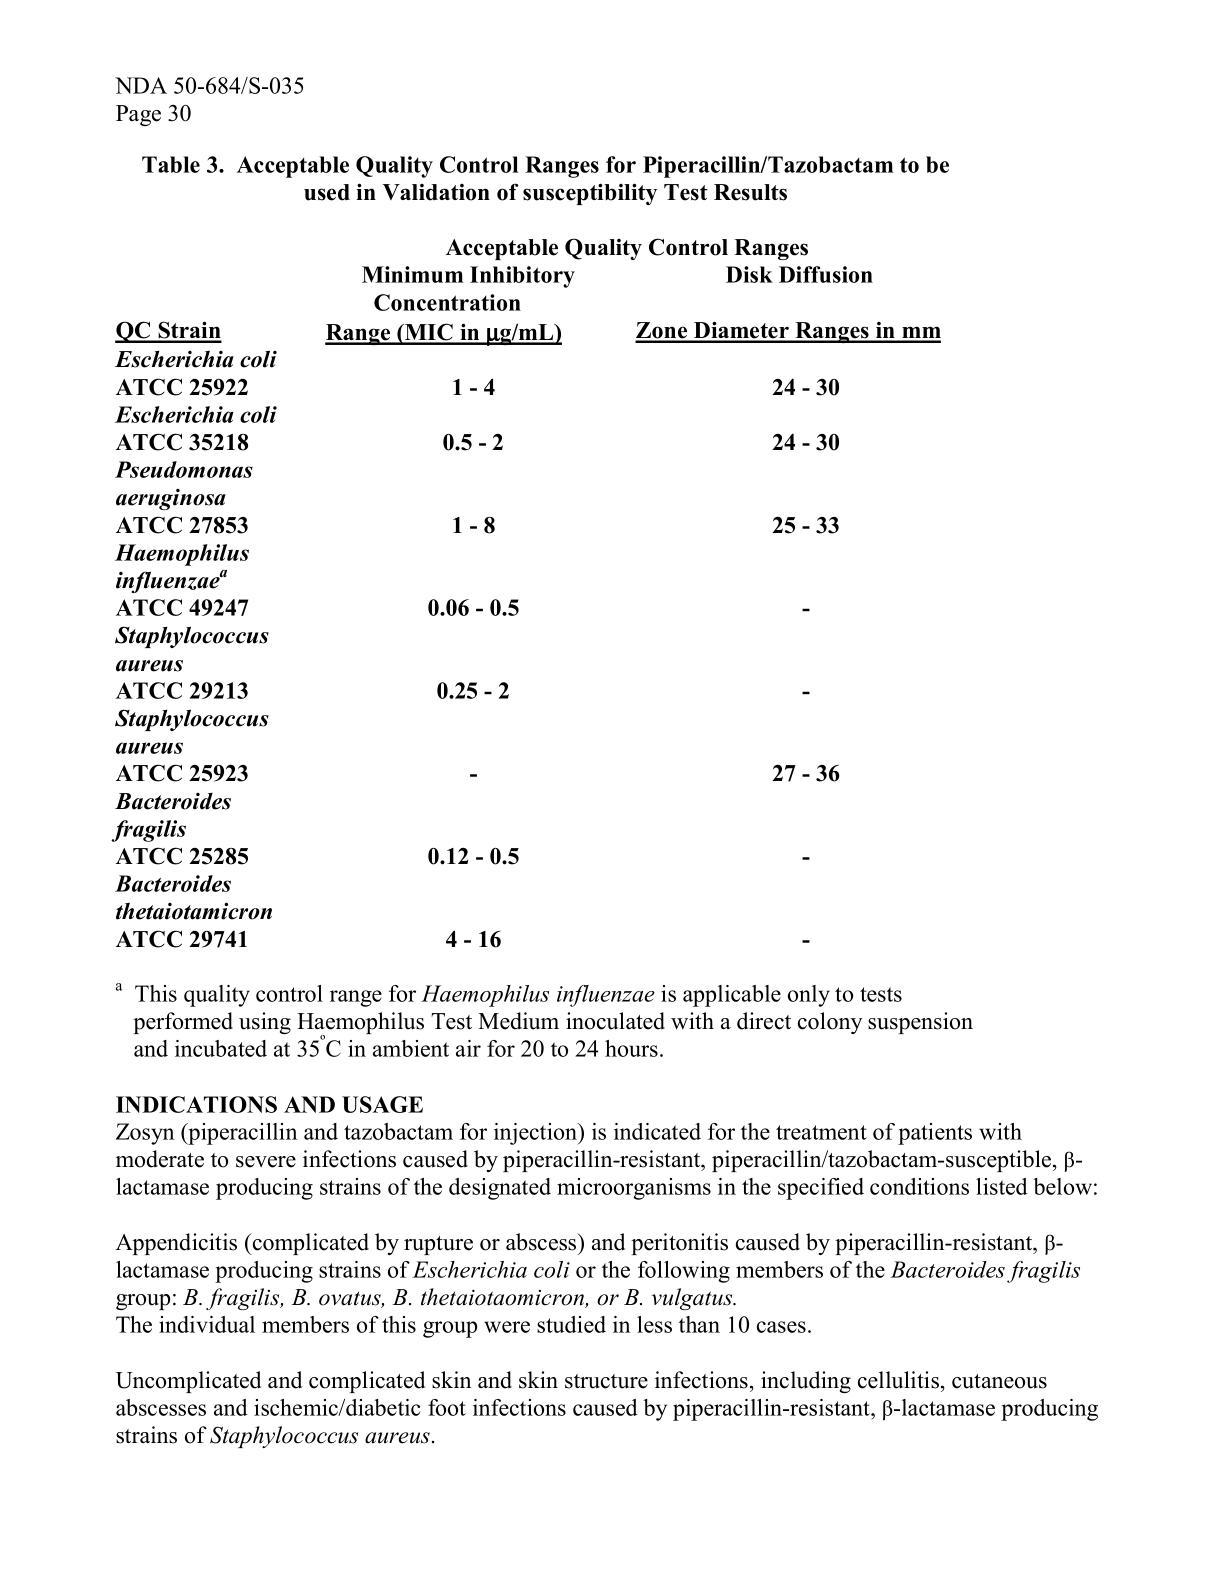nolines: (111, 237, 946, 954)
